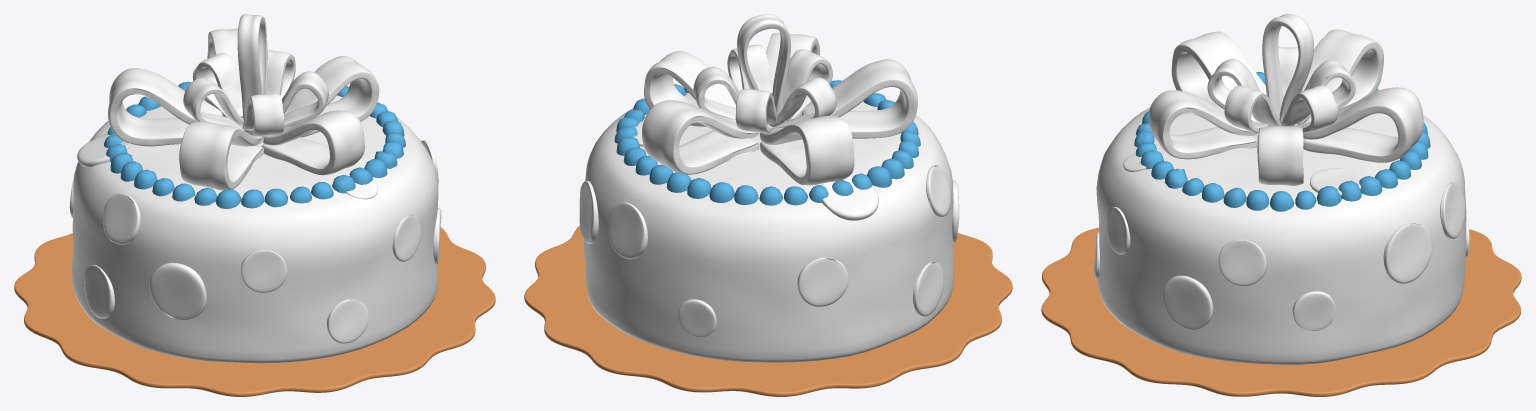
The model's file is fruitcake.glb.
3 renders of one model, left to right at view 1: azimuth 30°, elevation 25°; view 2: azimuth 150°, elevation 25°; view 3: azimuth 270°, elevation 25°, orthographic.
Parts seen in each view (by area): view 1: body, ribbon, base, fruits, balls; view 2: body, ribbon, base, fruits, balls; view 3: body, ribbon, base, fruits, balls.
Part boxes in pixels (bbox=[...]): body: bbox=[72, 100, 438, 363]; ribbon: bbox=[108, 14, 379, 190]; base: bbox=[14, 227, 495, 396]; fruits: bbox=[69, 95, 441, 343]; balls: bbox=[104, 81, 405, 208]; body: bbox=[584, 87, 954, 362]; ribbon: bbox=[642, 14, 917, 185]; base: bbox=[524, 226, 1012, 396]; fruits: bbox=[579, 123, 959, 337]; balls: bbox=[614, 80, 920, 205]; body: bbox=[1096, 107, 1466, 364]; ribbon: bbox=[1149, 14, 1423, 185]; base: bbox=[1041, 227, 1521, 396]; fruits: bbox=[1094, 88, 1469, 330]; balls: bbox=[1134, 72, 1430, 211].
Bounding box in the file's own units: 2.59 × 1.66 × 2.59.
